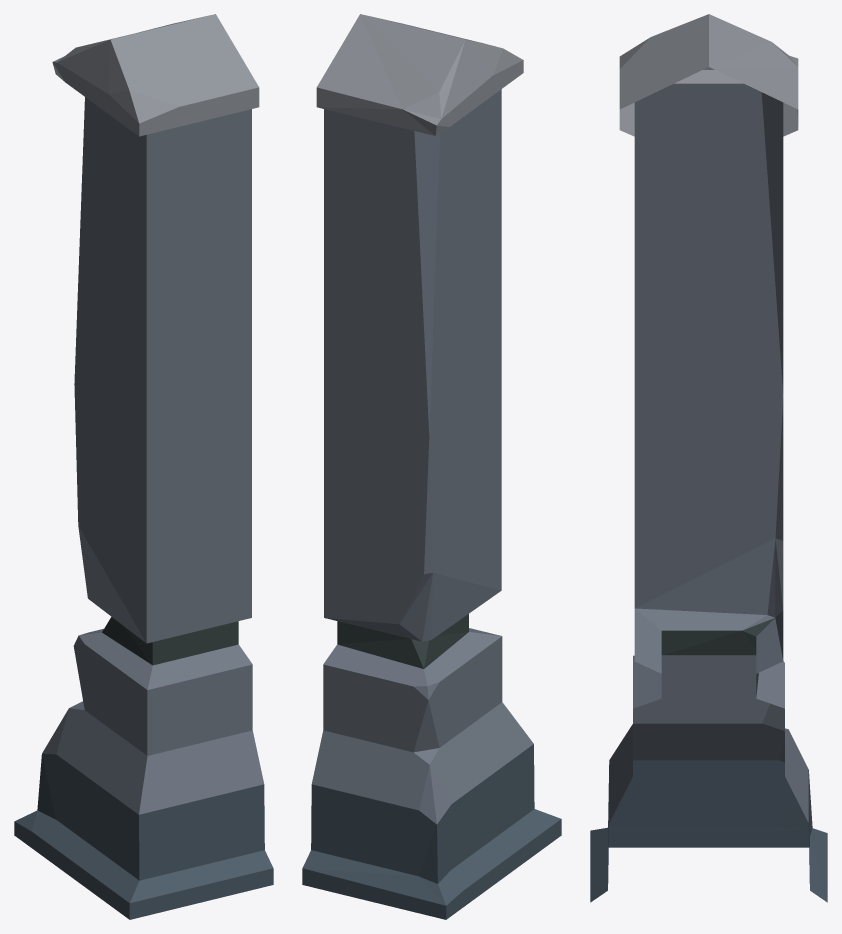
The model's file is End1.fbx.
The picture shows the model from 3 angles, left to right: view 1: azimuth 30°, elevation 25°; view 2: azimuth 150°, elevation 25°; view 3: azimuth 270°, elevation 25°; orthographic projection. The views are drawn at different scales.
Parts seen in each view (by area): view 1: End1; view 2: End1; view 3: End1.
Part boxes in pixels (x1=…): End1: x1=14, y1=14, x2=273, y2=919; End1: x1=302, y1=14, x2=561, y2=919; End1: x1=590, y1=14, x2=827, y2=902.
Bounding box in the file's own units: 86.33 × 476 × 120.
